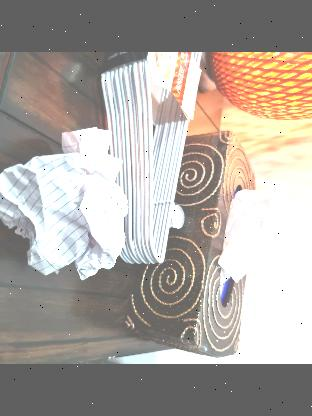Others: (0, 128, 127, 282)
